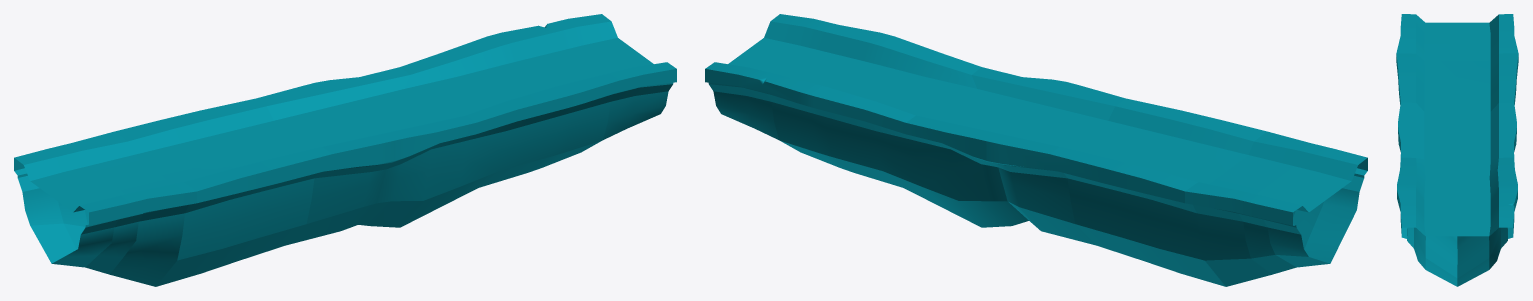
Rendered from Lrg_Modul_noC.fbx.
3 views of the same model, side by side, from view 1: azimuth 30°, elevation 25°; view 2: azimuth 150°, elevation 25°; view 3: azimuth 270°, elevation 25° (orthographic). The views are drawn at different scales.
Visible parts, largest first — view 1: Lrg_Modul_step_NoC1; view 2: Lrg_Modul_step_NoC1; view 3: Lrg_Modul_step_NoC1.
Boxes of the visible parts, x1,y1,x2,y2 form: Lrg_Modul_step_NoC1: (14,14,676,286); Lrg_Modul_step_NoC1: (705,14,1367,286); Lrg_Modul_step_NoC1: (1396,14,1518,286).
Size of the model in its own units: 5.87 by 1.25 by 1.42.
